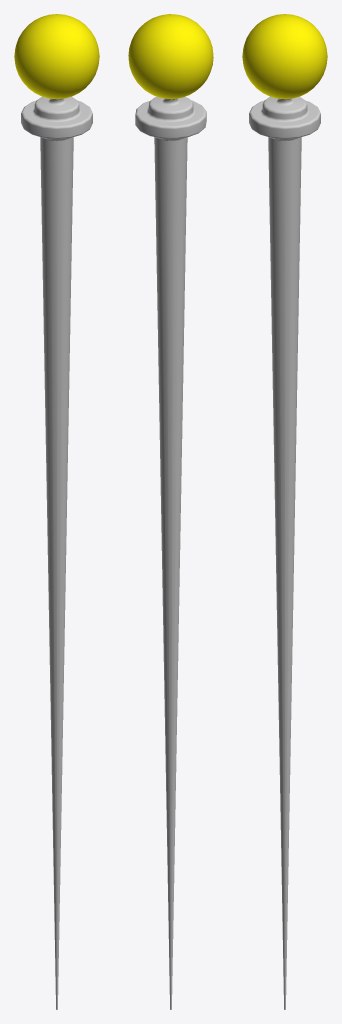
Rendered from yellow.glb.
3 renders of one model, left to right at view 1: azimuth 90°, elevation 25°; view 2: azimuth 210°, elevation 25°; view 3: azimuth 270°, elevation 25°, orthographic.
Parts seen in each view (by area): view 1: Yellow.001; view 2: Yellow.001; view 3: Yellow.001.
Part boxes in pixels (box(x1,y1,x2,y2)): Yellow.001: box(14, 14, 99, 1009); Yellow.001: box(128, 14, 213, 1009); Yellow.001: box(242, 14, 327, 1009).
Size of the model in its own units: 0.593 by 7.6 by 0.593.
